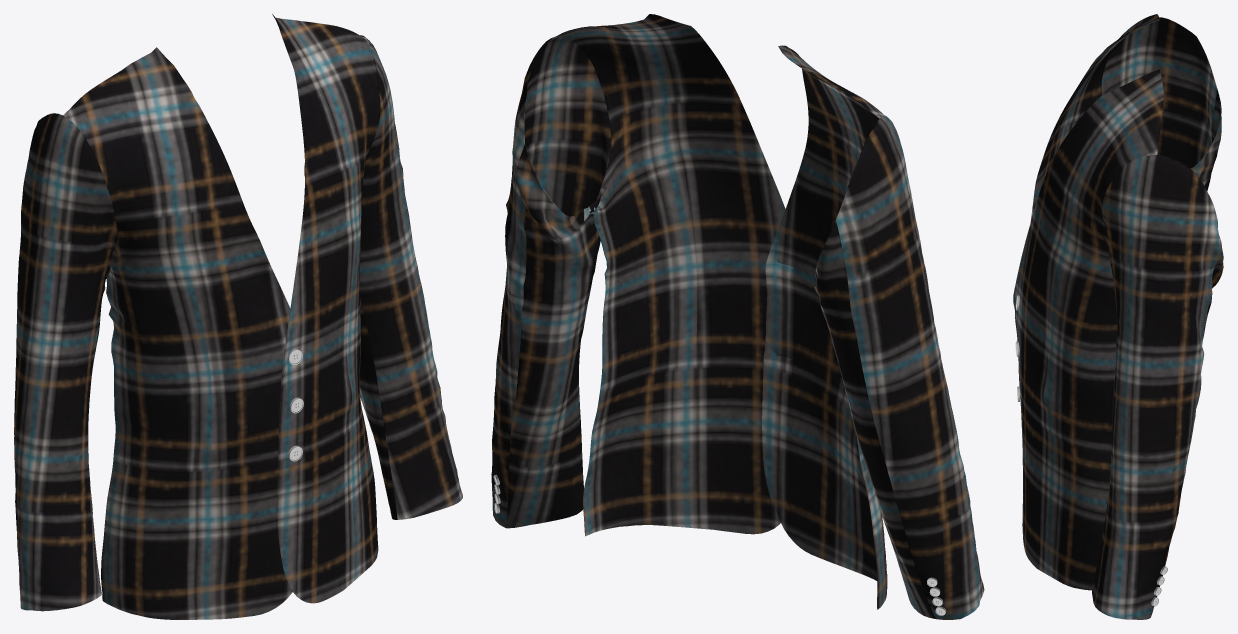
The picture shows the model from 3 angles, left to right: view 1: azimuth 30°, elevation 25°; view 2: azimuth 150°, elevation 25°; view 3: azimuth 270°, elevation 25°; orthographic projection. The views are drawn at different scales.
Parts seen in each view (by area): view 1: jacket (×5); view 2: jacket (×6); view 3: jacket (×5).
Part boxes in pixels (left/top/right/bottom): jacket (×5): left=14, top=14, right=462, bottom=619; jacket (×6): left=491, top=14, right=984, bottom=619; jacket (×5): left=1013, top=14, right=1222, bottom=619.
Size of the model in its own units: 630 by 724 by 277.
Materials: 17 (17 with a texture image).
